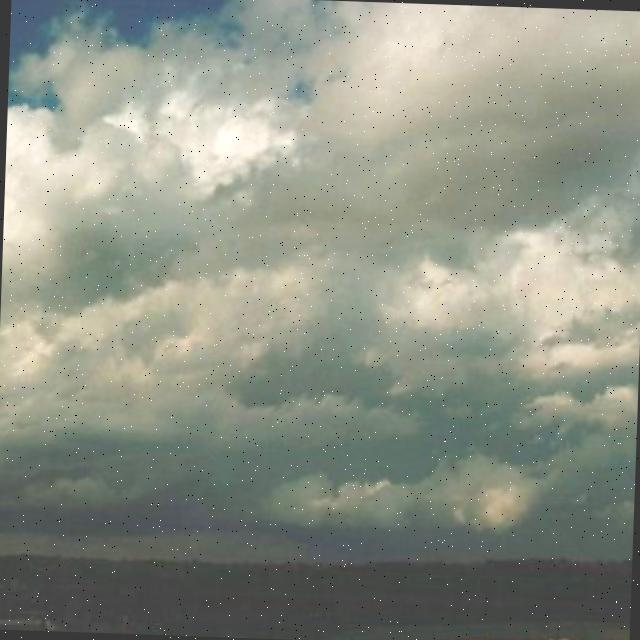Sc: (1, 1, 640, 516)
